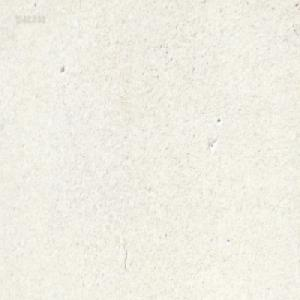Wrench: (124, 0, 131, 4)
